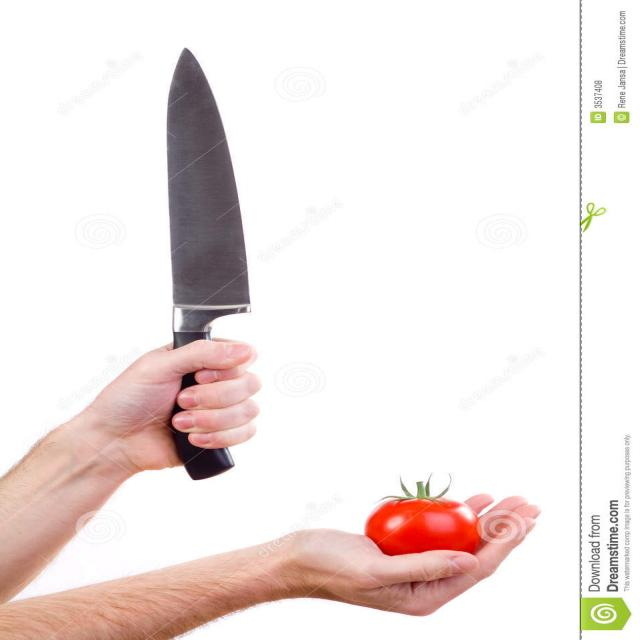knife: (168, 42, 254, 482)
